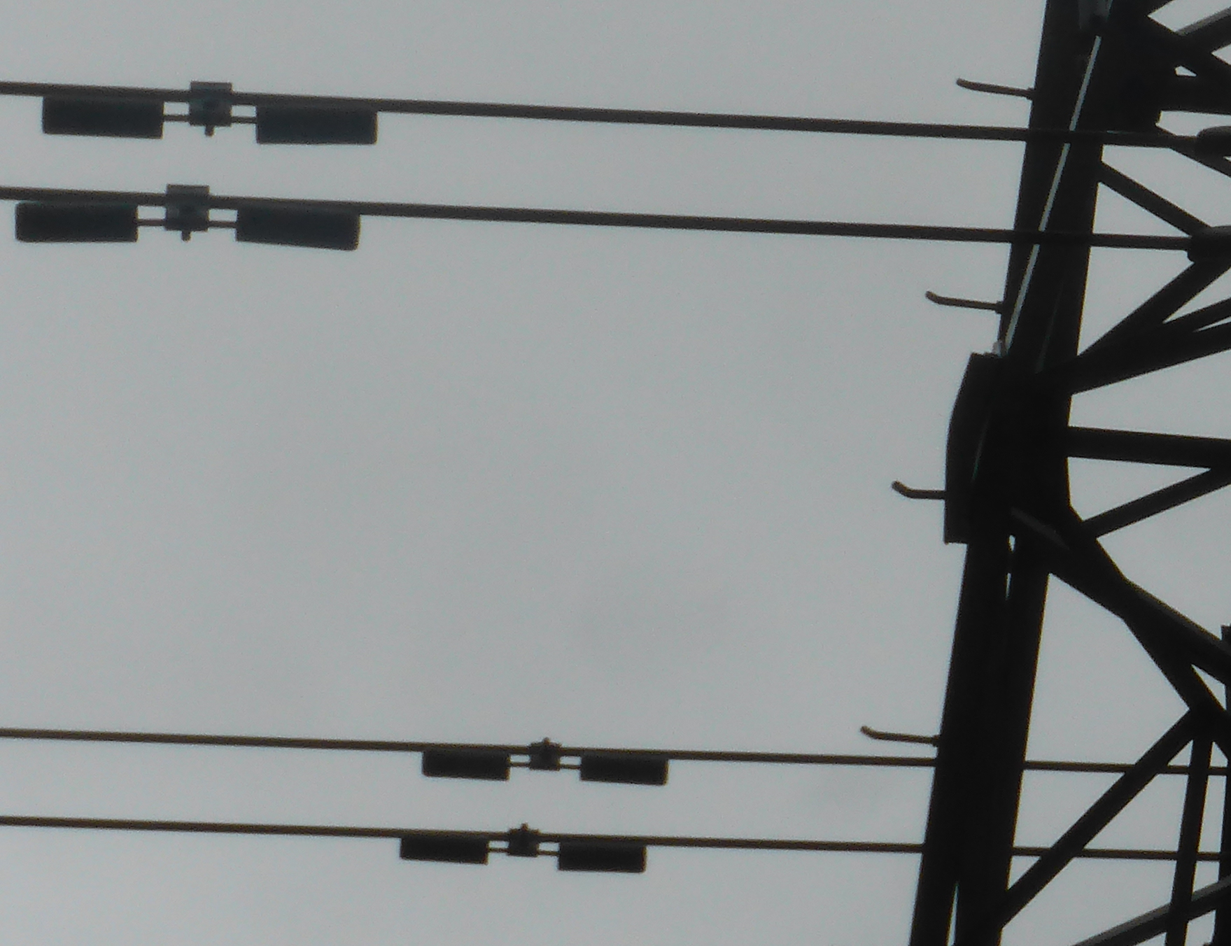damper: (11, 178, 365, 253), (35, 76, 380, 149), (412, 734, 672, 791), (395, 819, 651, 875)
